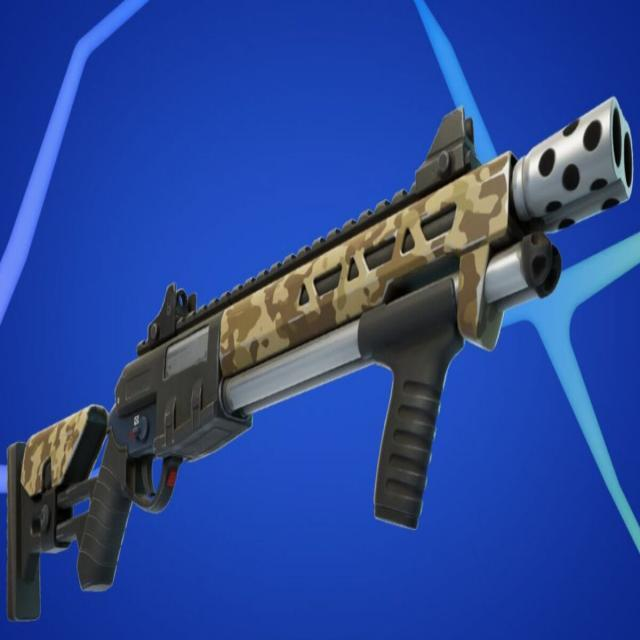shotgun: (1, 91, 640, 640)
